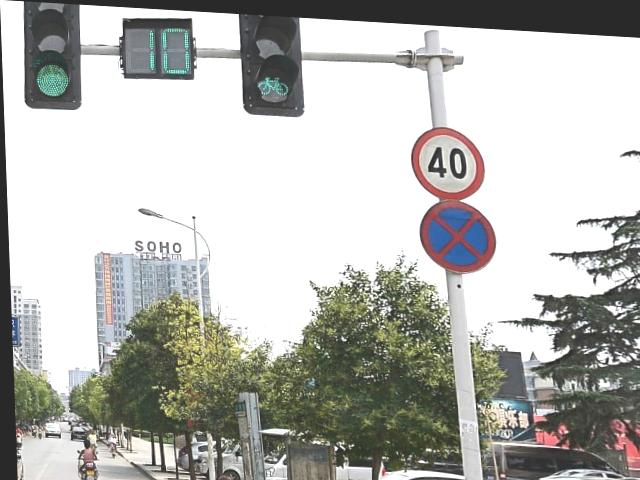limit40: (408, 117, 486, 196)
